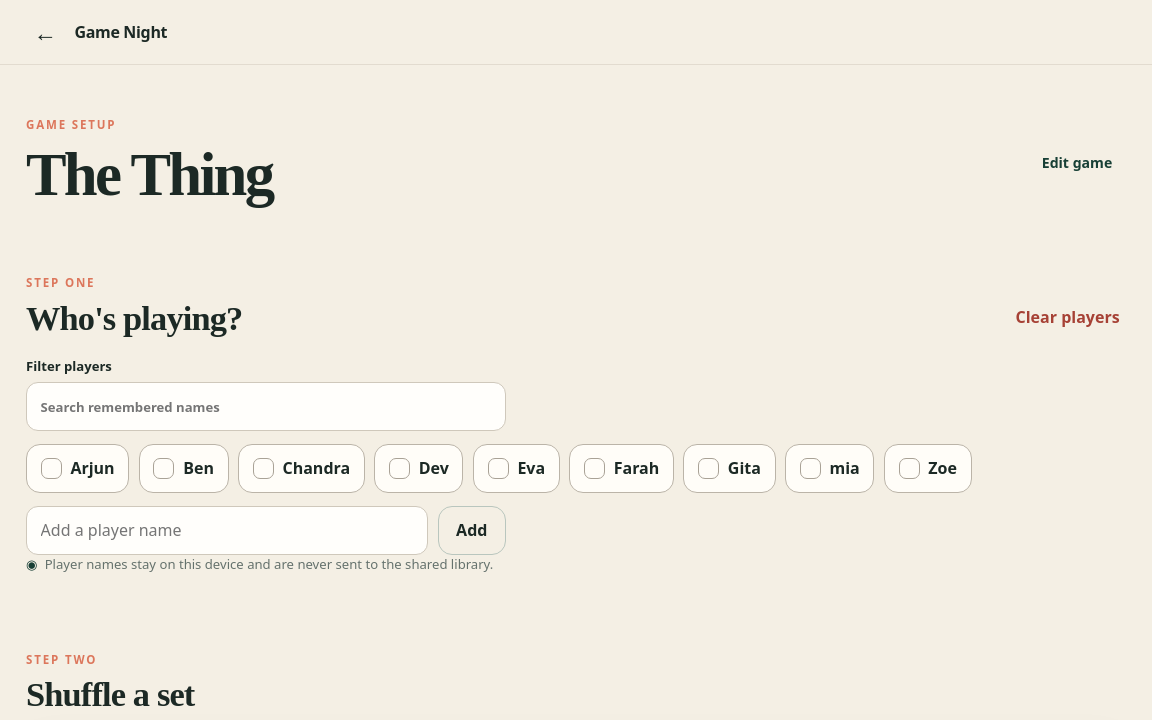
Scenario: local setup controls › uses an inline confirmation before starting over
The width and height of the screenshot is (1152, 720).
Click the button "Arjun": (78, 468) [26,444,129,493]
(page scrolled)
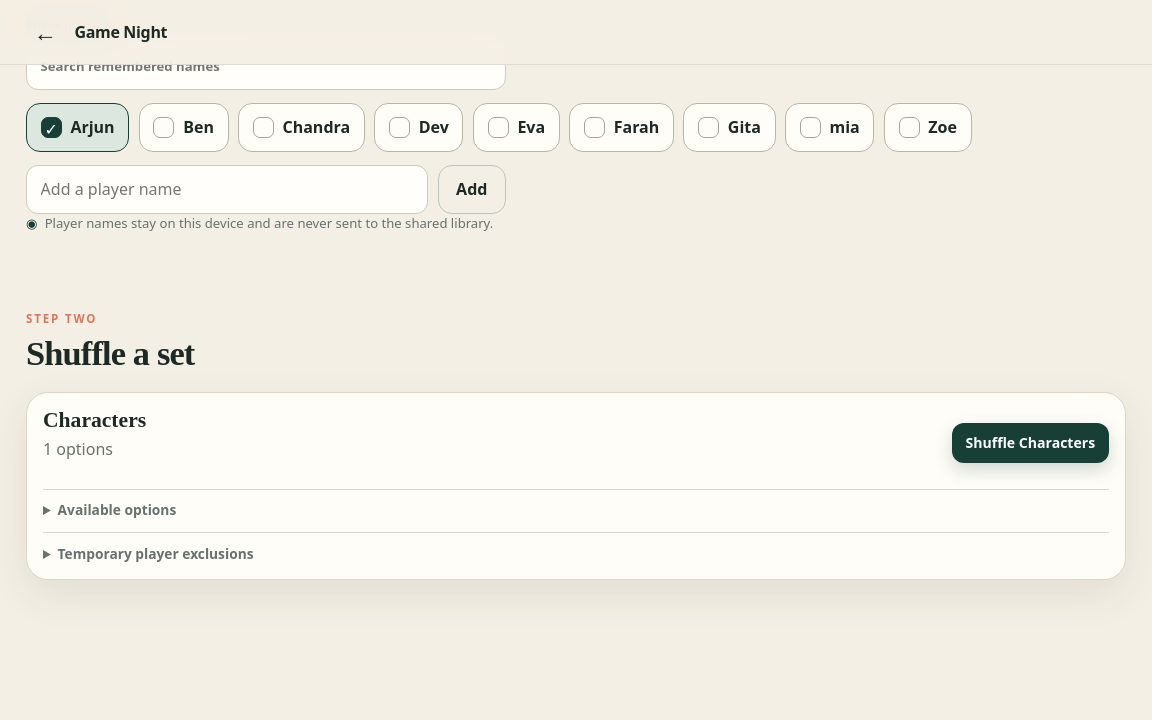
Click the button "Shuffle Characters": (1030, 443) [952,423,1109,463]
(page scrolled)
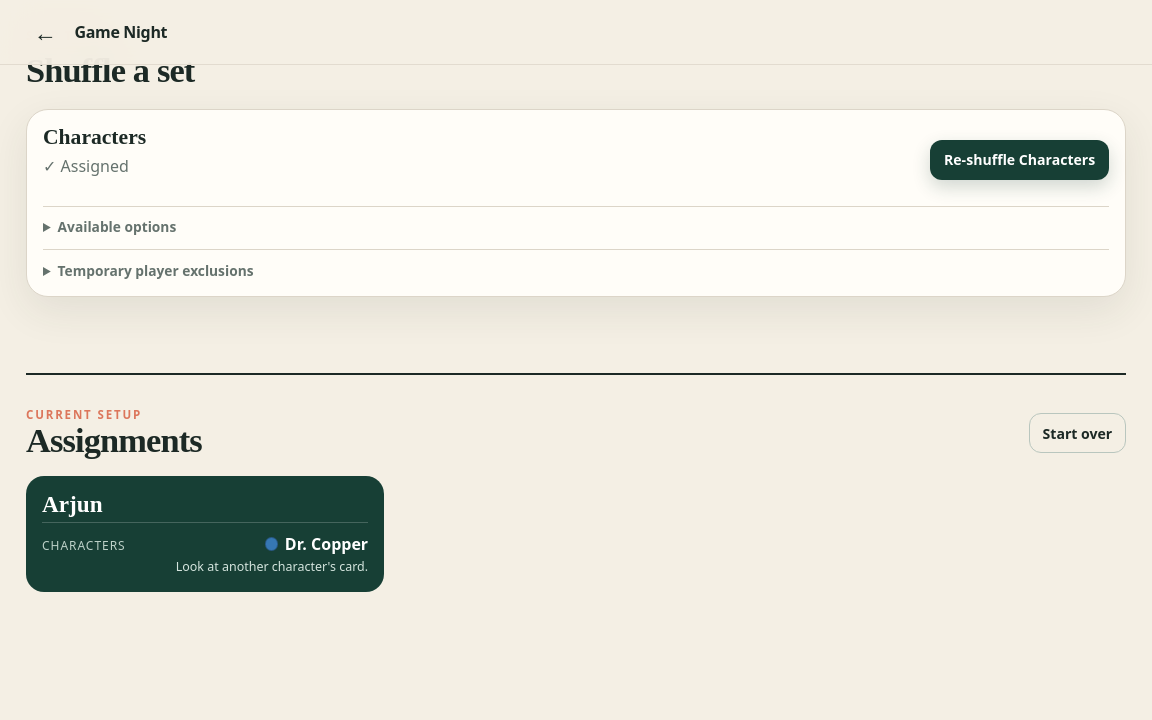
Expected: the heading "Assignments" is shown, [26,422,202,460]
Click the button "Start over": (1077, 434) [1029,414,1126,454]
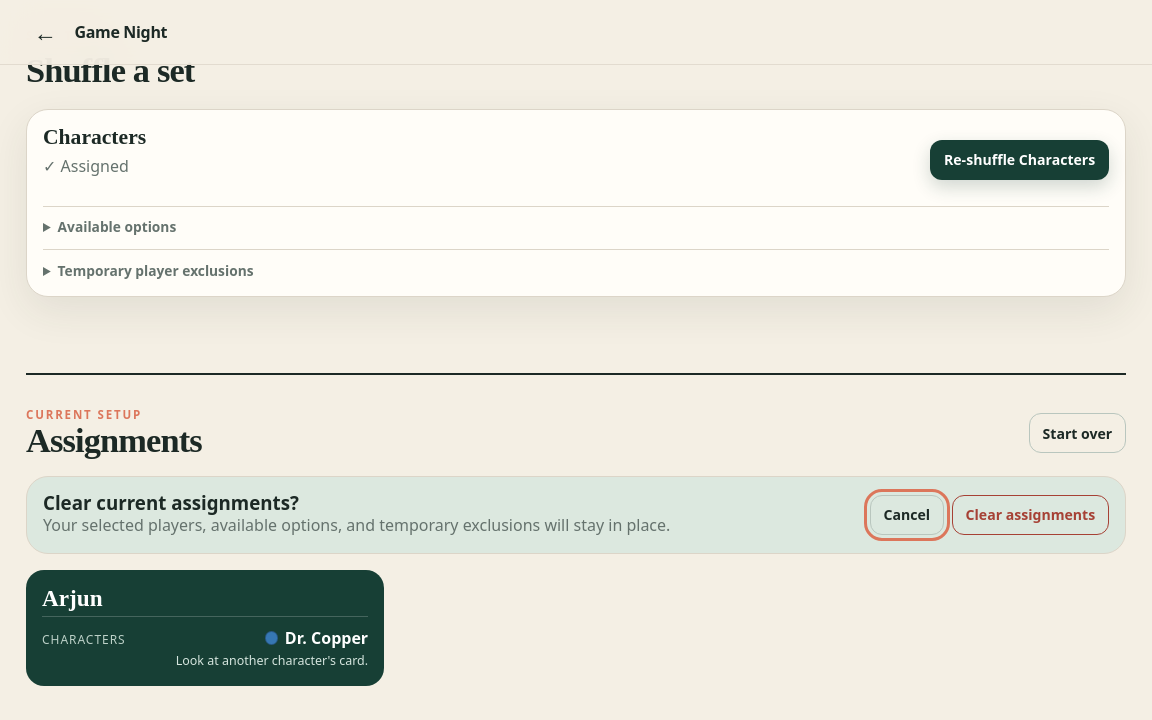
Expected: the heading "Assignments" is shown, [26,422,202,460]
Expected: the element "Clear current assignments?" is shown, [26,476,1126,554]
Click the button "Cancel": (907, 515) [870,495,944,535]
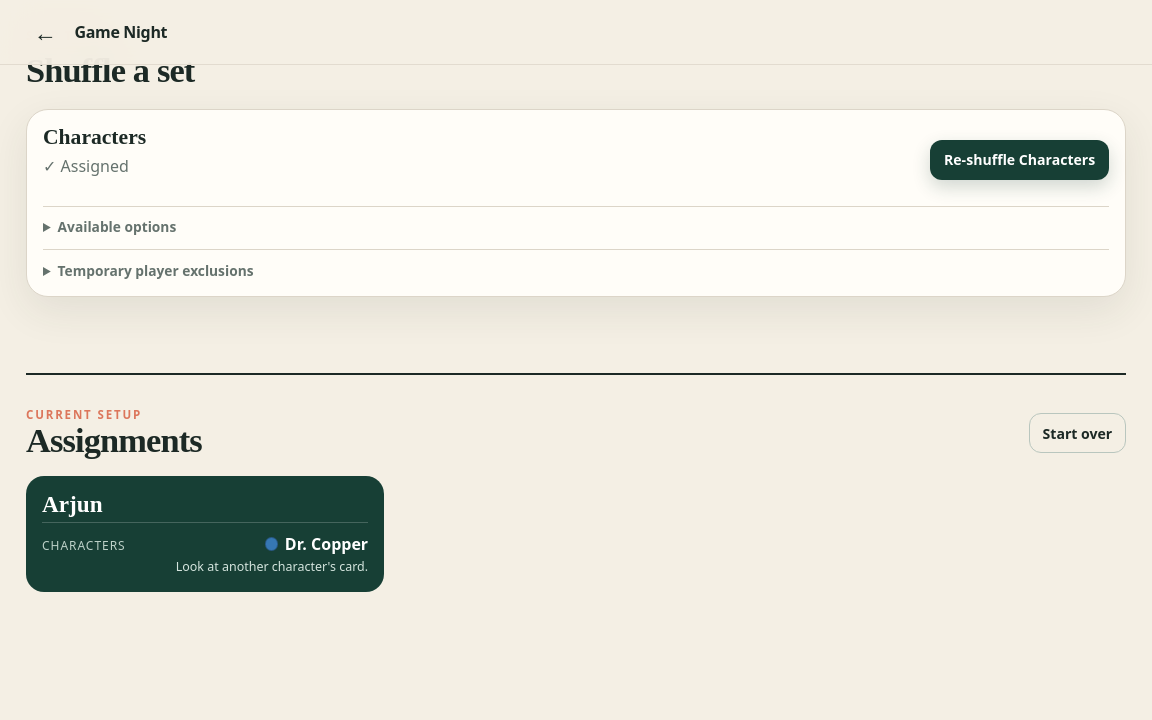
Expected: the heading "Assignments" is shown, [26,422,202,460]
Expected: the heading "Clear current assignments?" is gone
Click the button "Start over": (1077, 434) [1029,414,1126,454]
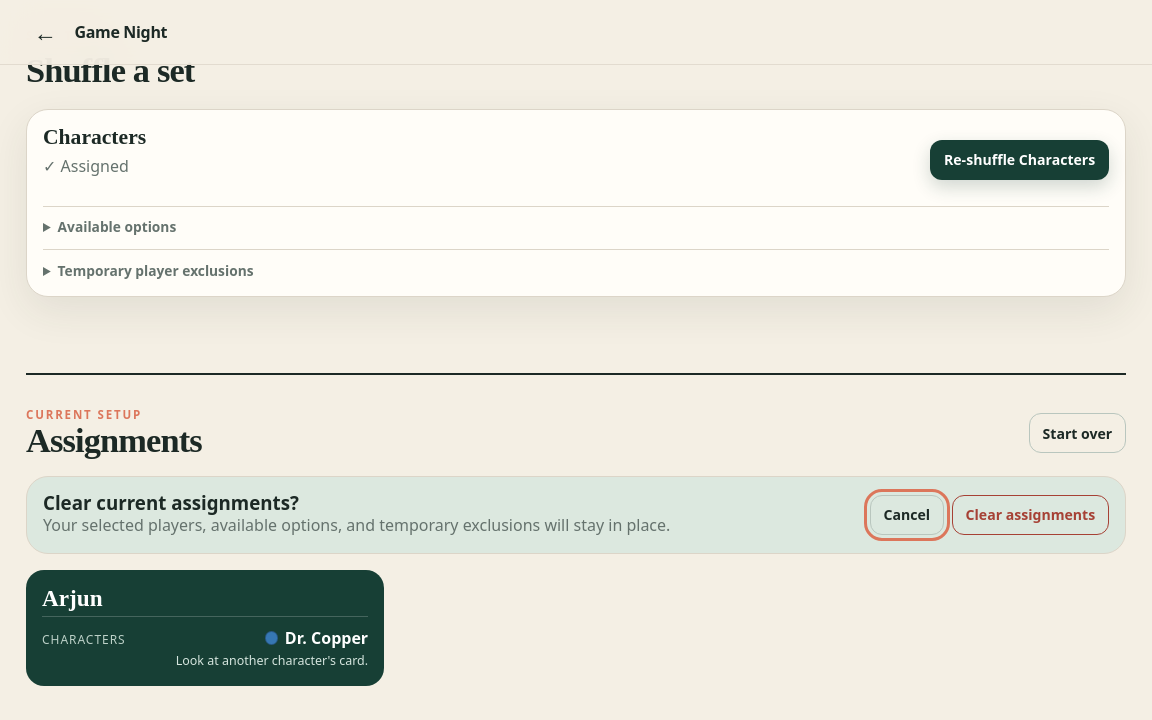
Click the button "Clear assignments": (1030, 515) [952,495,1109,535]
(page scrolled)
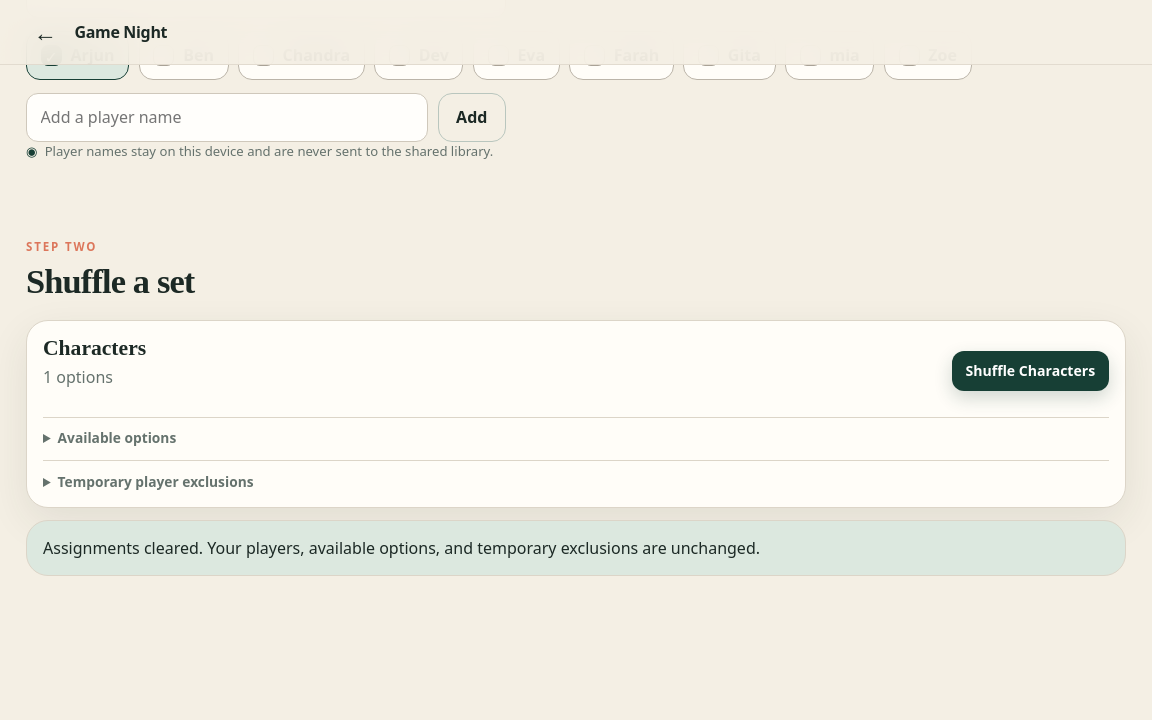
Expected: the message shows "Assignments cleared", [43,537,760,559]
